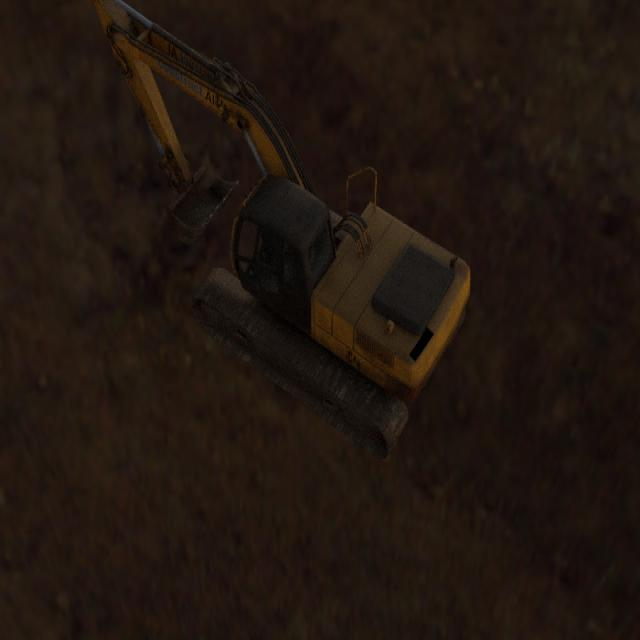excavator: (93, 0, 470, 460)
